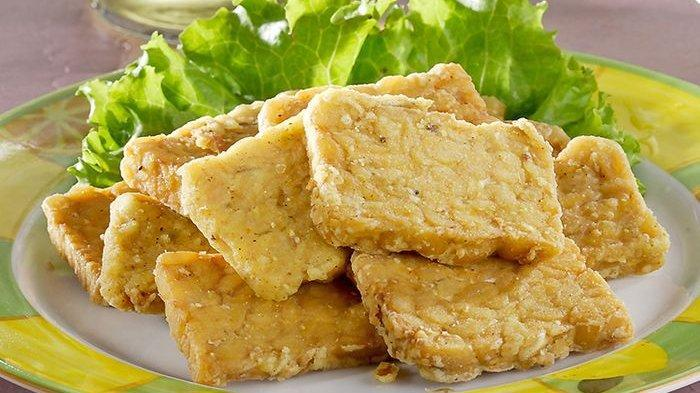buah_sayur_lainnya: (215, 13, 408, 75)
kacang_legume: (331, 128, 539, 238), (385, 263, 587, 347), (191, 304, 352, 358), (215, 165, 307, 242), (561, 159, 620, 244), (117, 192, 151, 286)
